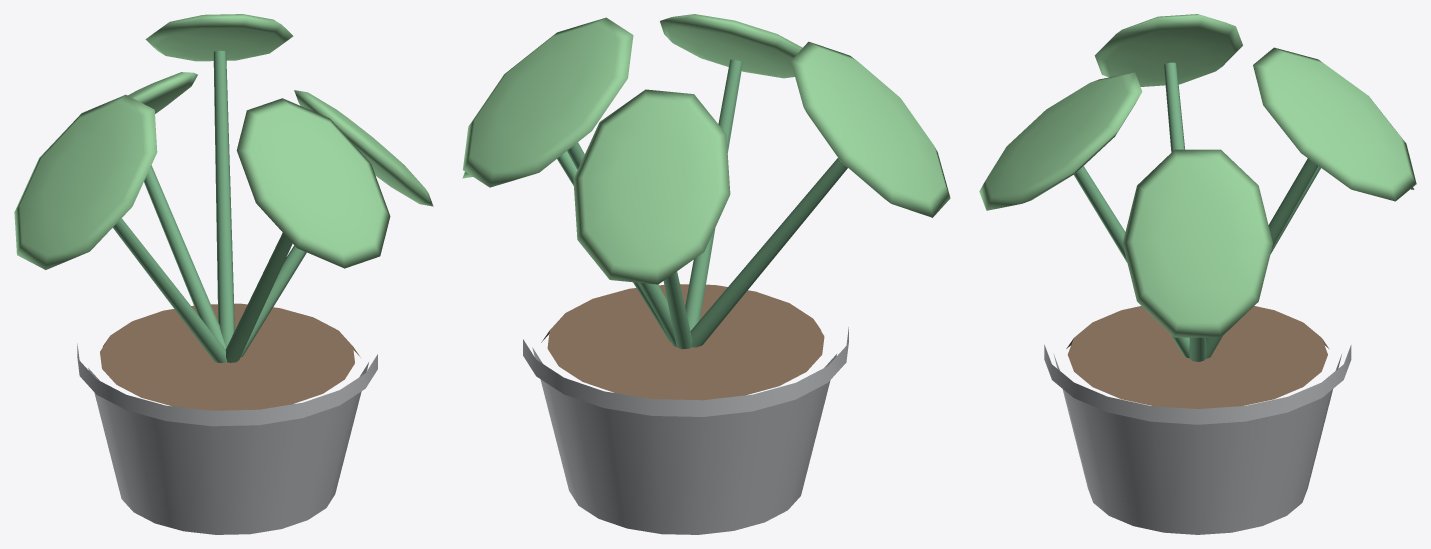
File: plant-tropical.glb
3 renders of one model, left to right at view 1: azimuth 30°, elevation 25°; view 2: azimuth 150°, elevation 25°; view 3: azimuth 270°, elevation 25°, orthographic. The views are drawn at different scales.
Visible parts, largest first — view 1: Folhas, Vaso, Terra, Caules; view 2: Folhas, Vaso, Terra, Caules; view 3: Folhas, Vaso, Terra, Caules.
Boxes of the visible parts, bbox=[...] form: Folhas: bbox=[14, 14, 433, 269]; Vaso: bbox=[77, 343, 377, 534]; Terra: bbox=[100, 303, 360, 410]; Caules: bbox=[113, 50, 306, 362]; Folhas: bbox=[462, 14, 950, 284]; Vaso: bbox=[523, 327, 848, 534]; Terra: bbox=[541, 284, 824, 400]; Caules: bbox=[557, 59, 847, 349]; Folhas: bbox=[979, 14, 1416, 337]; Vaso: bbox=[1044, 344, 1351, 534]; Terra: bbox=[1066, 306, 1329, 408]; Caules: bbox=[1074, 62, 1320, 361].
Bounding box in the file's own units: 1.67 × 1.7 × 1.51.
